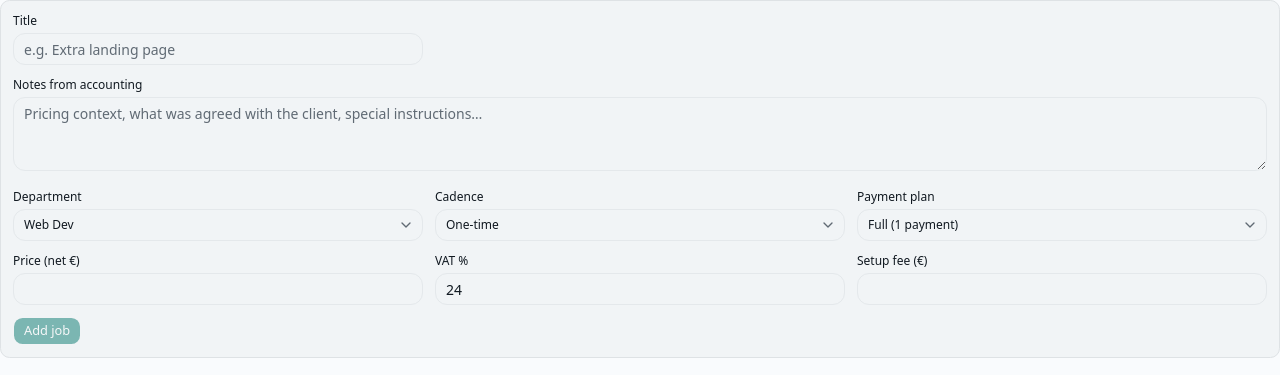
it: AddCustomJobForm › hides the plan selector when the cadence is recurring
Check: the dropdown named "payment plan" is shown, box [857,209,1267,241]
Step 1. Click the dropdown named "cadence" → (472, 224), box [435,209,845,241]
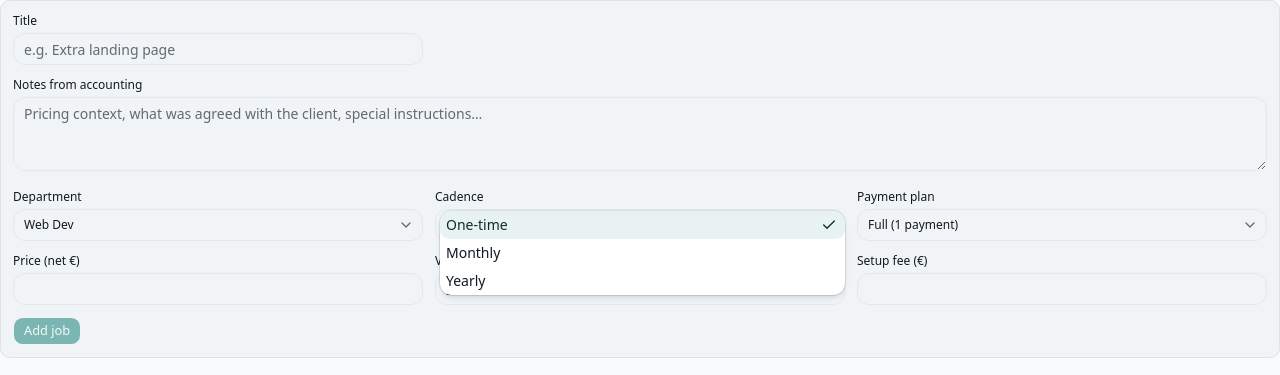
Step 2. Click the option "Monthly" → (473, 252), box [446,243,500,262]
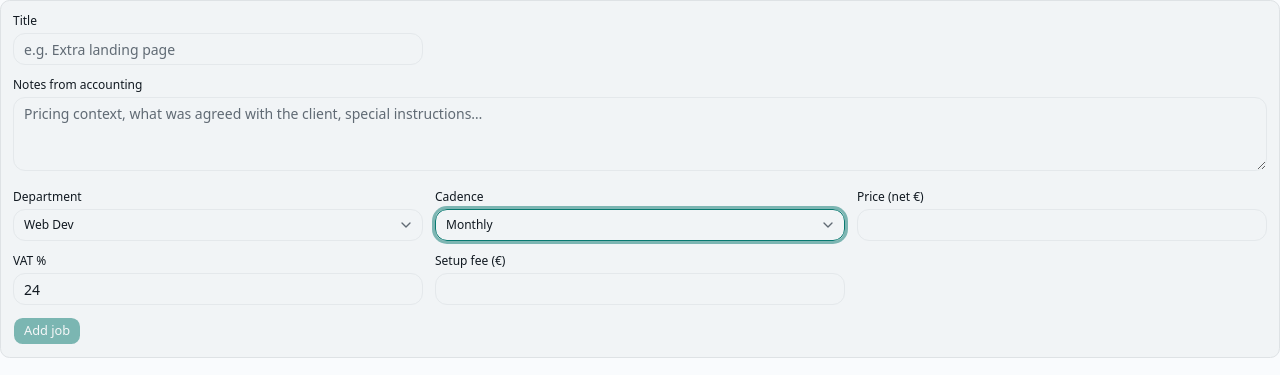
Check: the label "Payment plan" is gone
